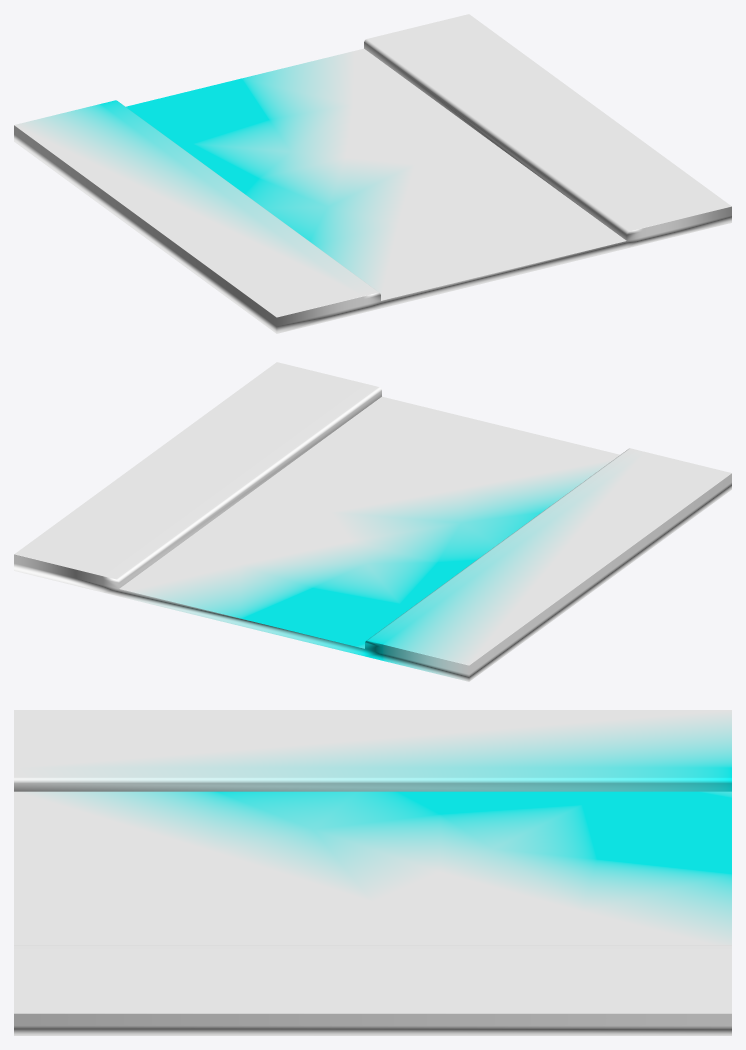
3 renders of one model, top to bottom at view 1: azimuth 30°, elevation 25°; view 2: azimuth 150°, elevation 25°; view 3: azimuth 270°, elevation 25°, orthographic. The views are drawn at different scales.
Parts seen in each view (by area): view 1: SM_Module_4x4_03_LOD0; view 2: SM_Module_4x4_03_LOD0; view 3: SM_Module_4x4_03_LOD0.
Part boxes in pixels (x1,y1,x2,y2): SM_Module_4x4_03_LOD0: (14, 14, 731, 333); SM_Module_4x4_03_LOD0: (14, 362, 731, 681); SM_Module_4x4_03_LOD0: (14, 710, 731, 1035).
Size of the model in its own units: 400 by 400 by 13.86.
